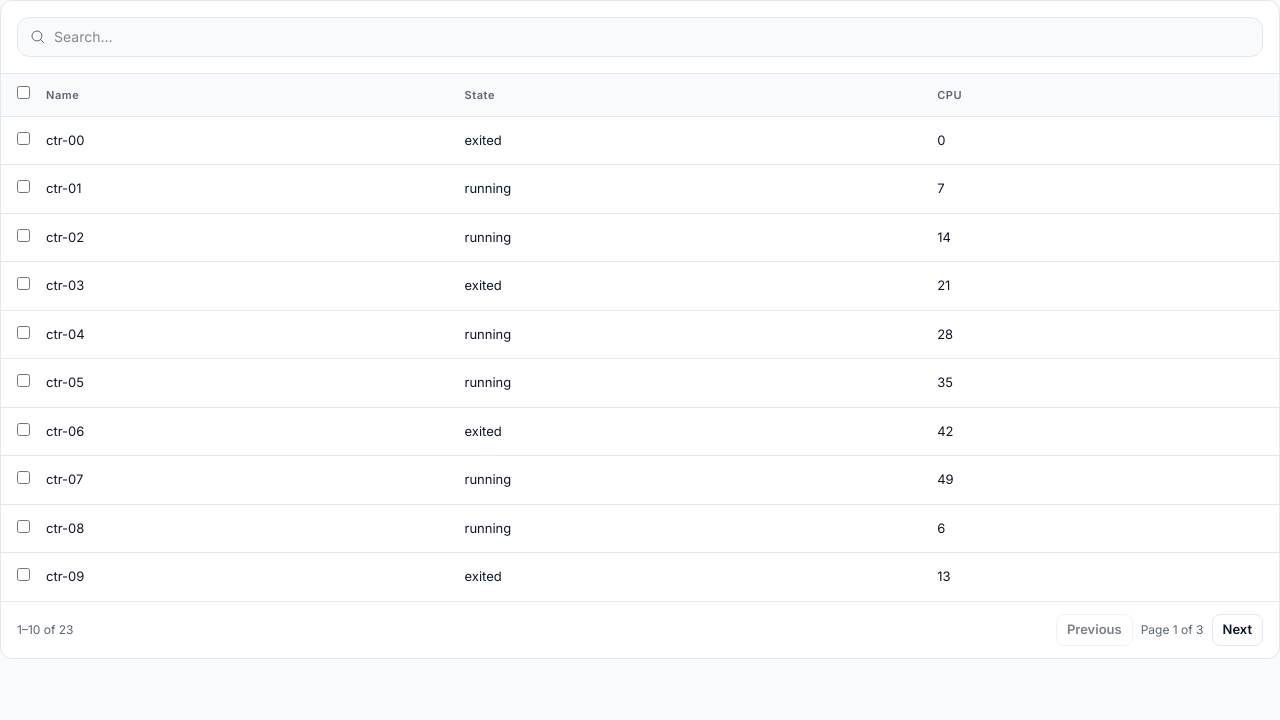
Test: DataTable › multi-selects rows and runs bulk actions with the selected ids
The image size is (1280, 720).
Expected: the button "Restart" is not shown
Click the checkbox named "Select ctr-01": (24,186) [17,180,30,193]
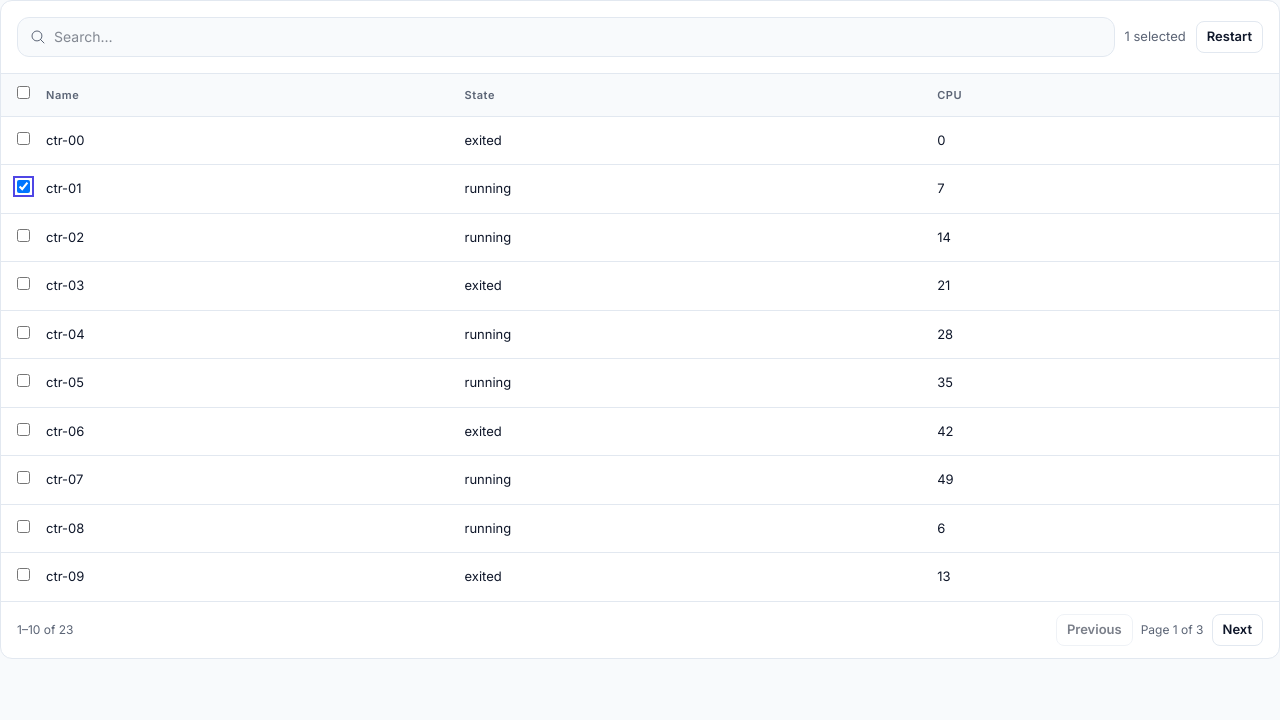
Click the checkbox named "Select ctr-02": (24,235) [17,228,30,242]
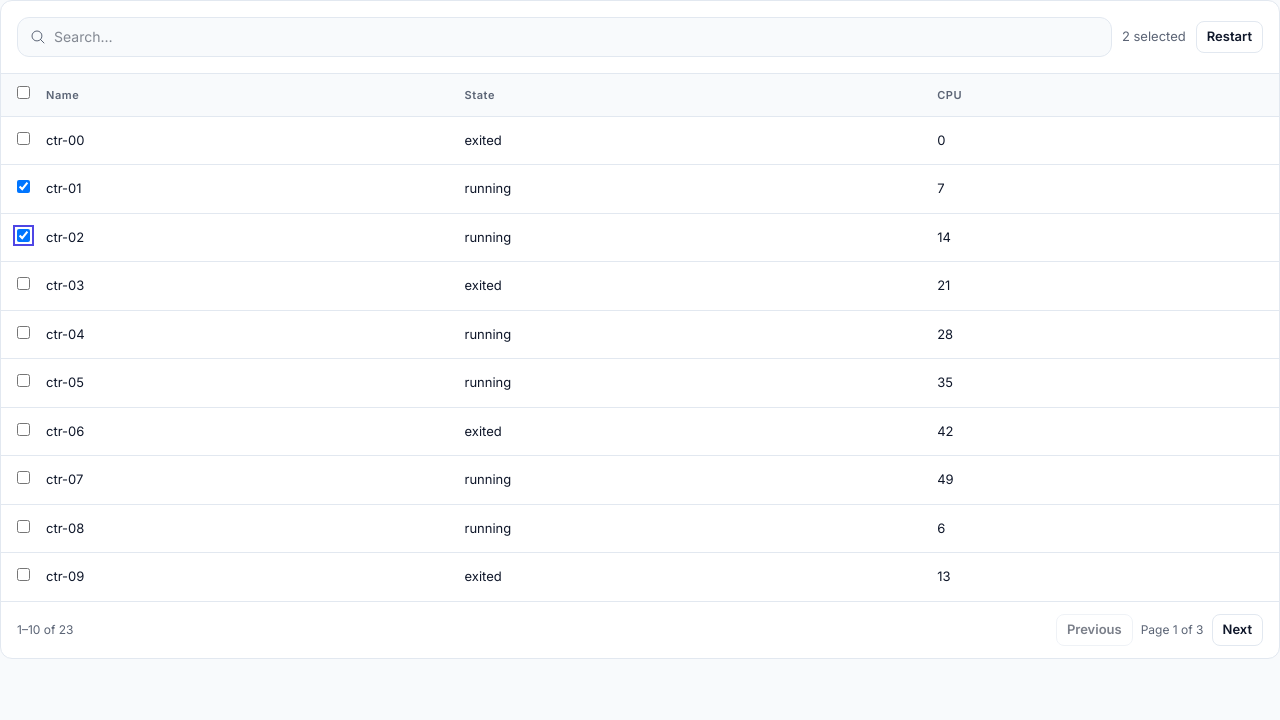
Now the text "2 selected" is shown, box [1122,27,1186,47]
Click the button "Restart": (1229,37) [1196,21,1263,53]
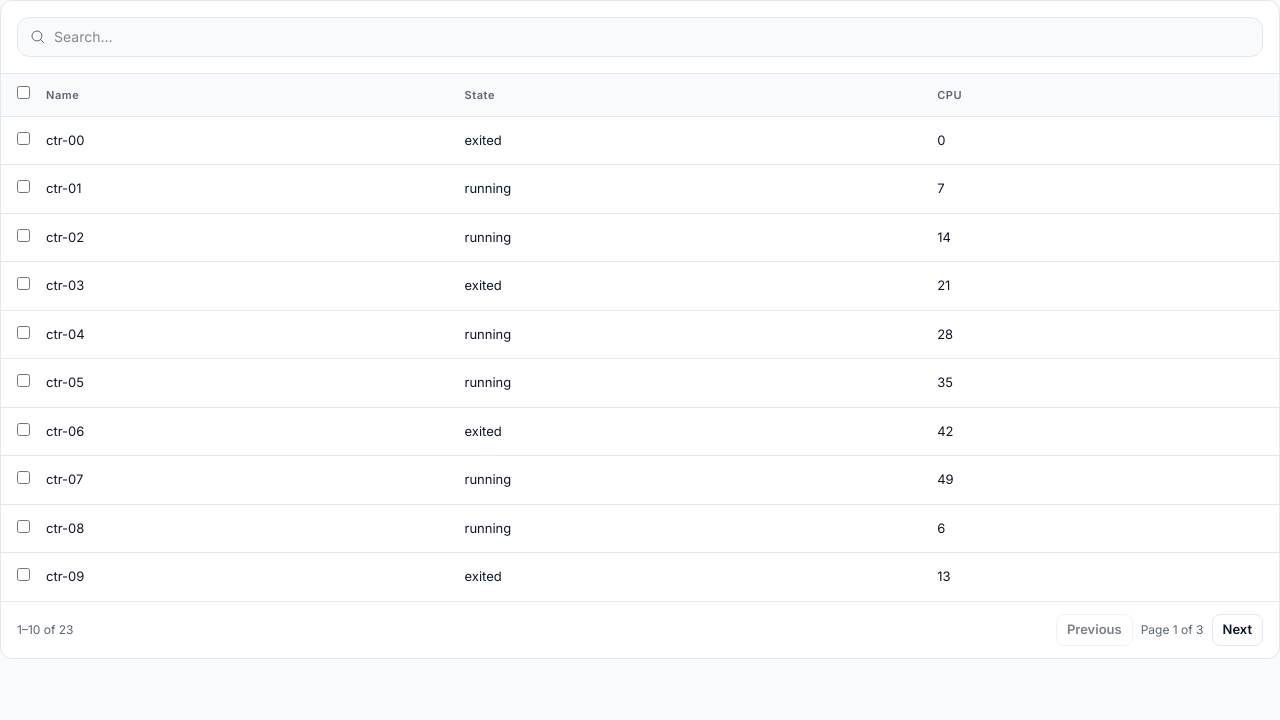
Now the text "2 selected" is gone
